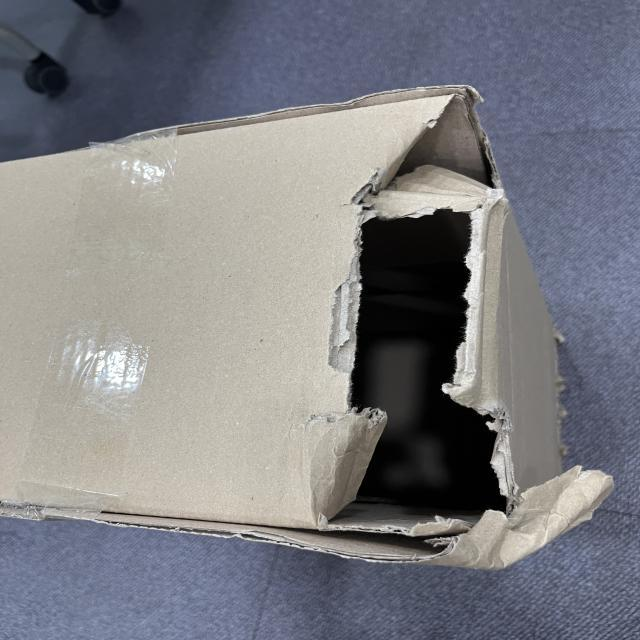hole: (329, 213, 529, 553)
